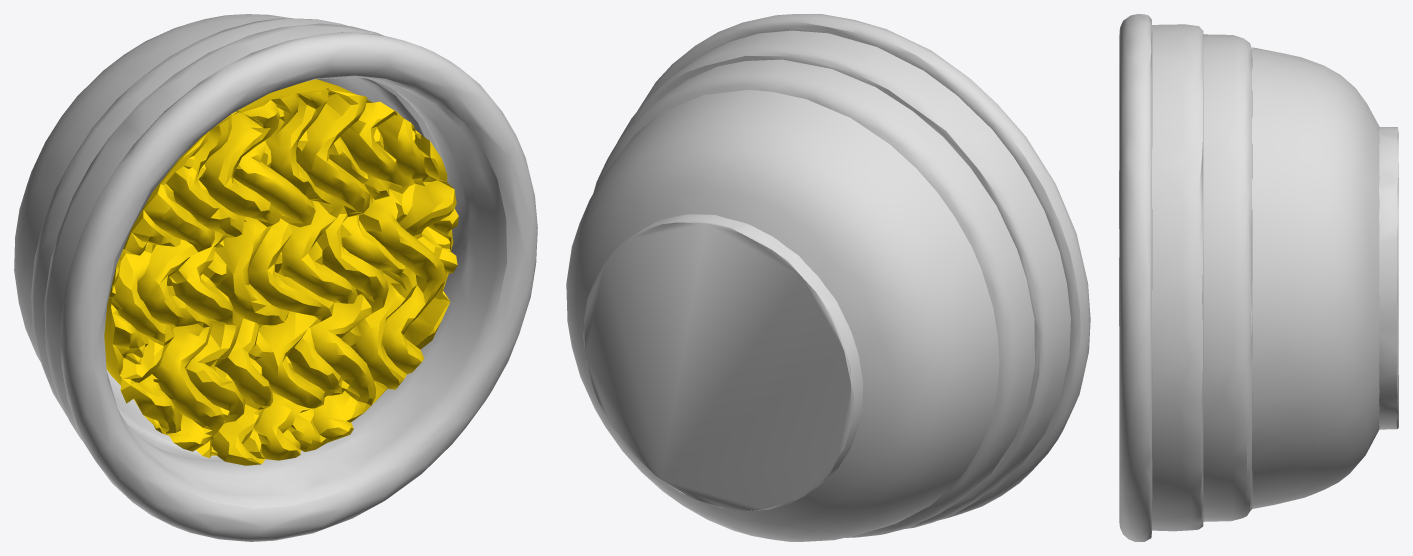
Rendered from ramen.glb.
3 renders of one model, left to right at view 1: azimuth 30°, elevation 25°; view 2: azimuth 150°, elevation 25°; view 3: azimuth 270°, elevation 25°, orthographic. The views are drawn at different scales.
Parts seen in each view (by area): view 1: Circle.493, Circle.494; view 2: Circle.493; view 3: Circle.493.
Part boxes in pixels (box(x1,y1,x2,y2)): Circle.493: box(14, 14, 537, 541); Circle.494: box(104, 79, 458, 465); Circle.493: box(566, 14, 1090, 541); Circle.493: box(1119, 14, 1398, 541).
Bounding box in the file's own units: 15.86 × 15.85 × 8.39.
